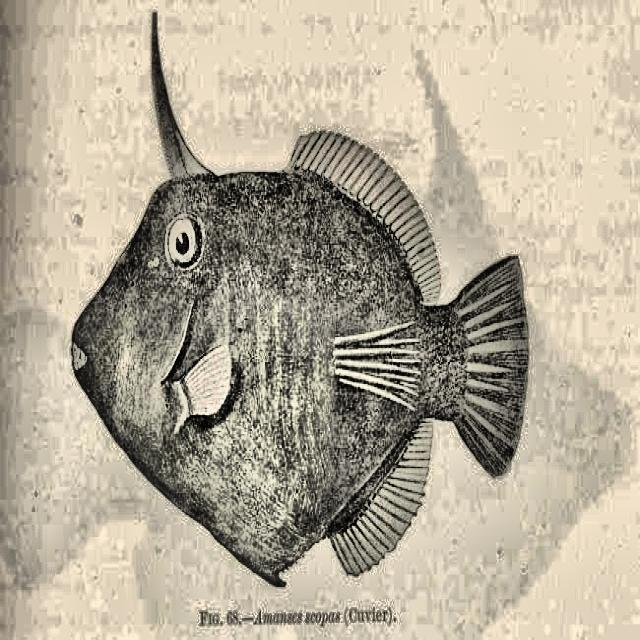fish: (70, 12, 530, 590)
